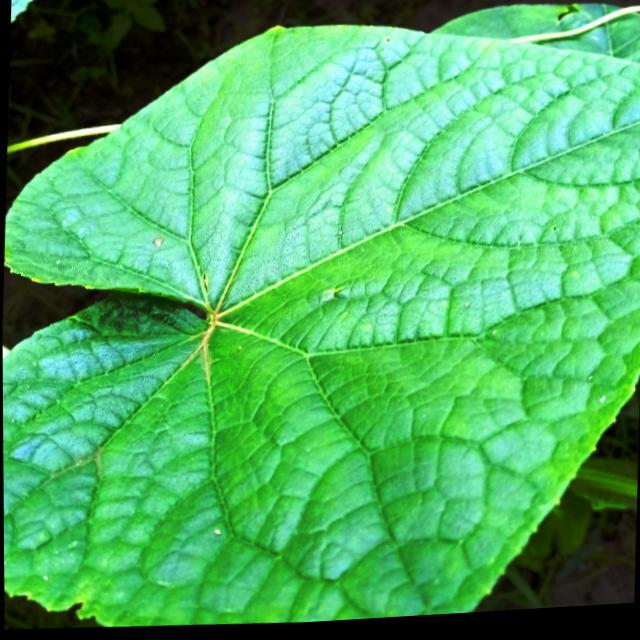Fresh-Leaf: (3, 17, 640, 626)
